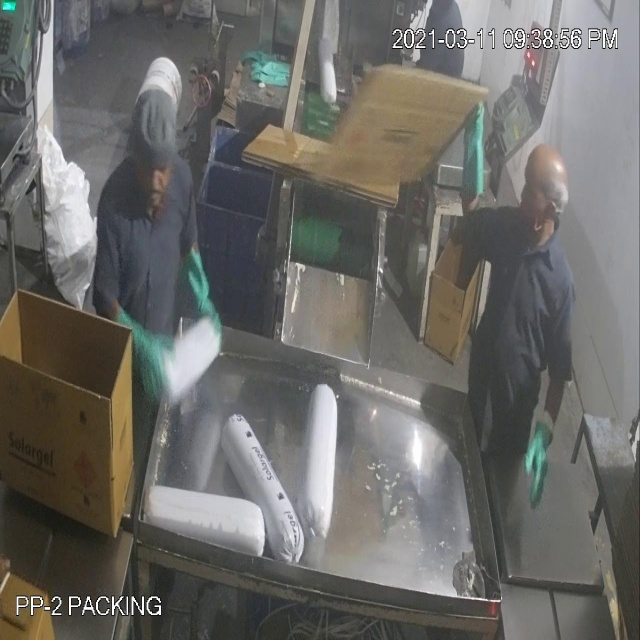Guantes: (178, 248, 229, 356), (520, 406, 563, 517), (460, 96, 492, 209)
